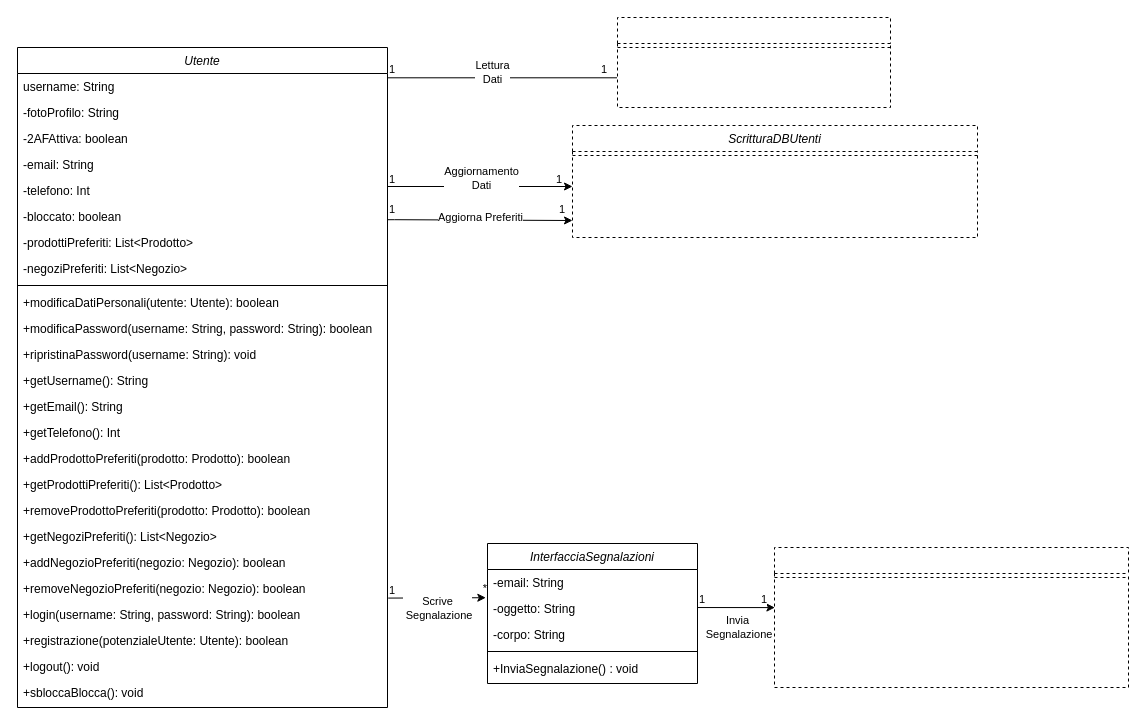
The diagram is 1146 pixels wide and 726 high, and some of its shapes have lost their labels. Each missing label, with the box of its shape:
InterfacciaGmail: (774, 546, 1128, 688)
LetturaDBUtenti: (616, 16, 890, 108)
